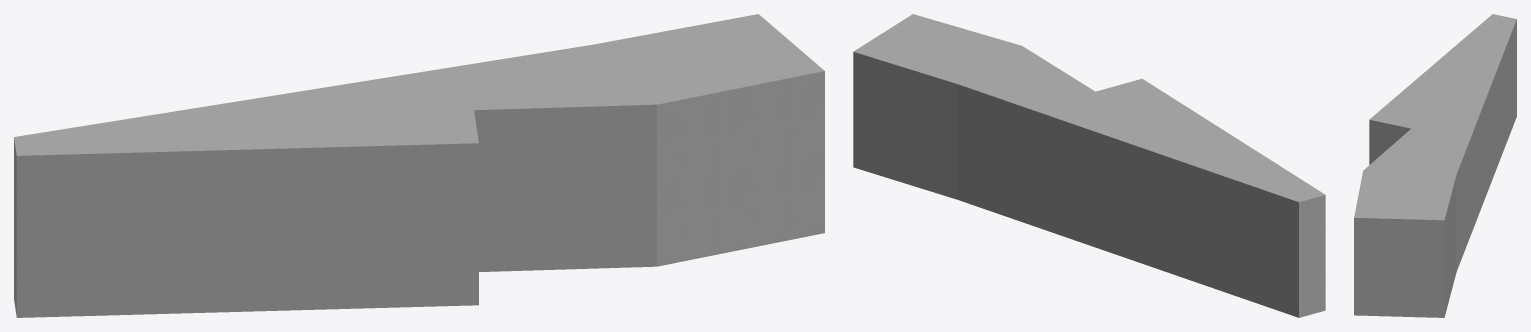
3 views of the same model, side by side, from view 1: azimuth 30°, elevation 25°; view 2: azimuth 150°, elevation 25°; view 3: azimuth 270°, elevation 25° (orthographic). The views are drawn at different scales.
Parts seen in each view (by area): view 1: B288204036101062A0; view 2: B288204036101062A0; view 3: B288204036101062A0.
Boxes of the visible parts, box(x1,y1,x2,y2) form: B288204036101062A0: box(14, 14, 824, 317); B288204036101062A0: box(853, 14, 1325, 317); B288204036101062A0: box(1354, 14, 1516, 317).
Size of the model in its own units: 10.12 by 2.23 by 3.38.
1 material, 1 textured.
